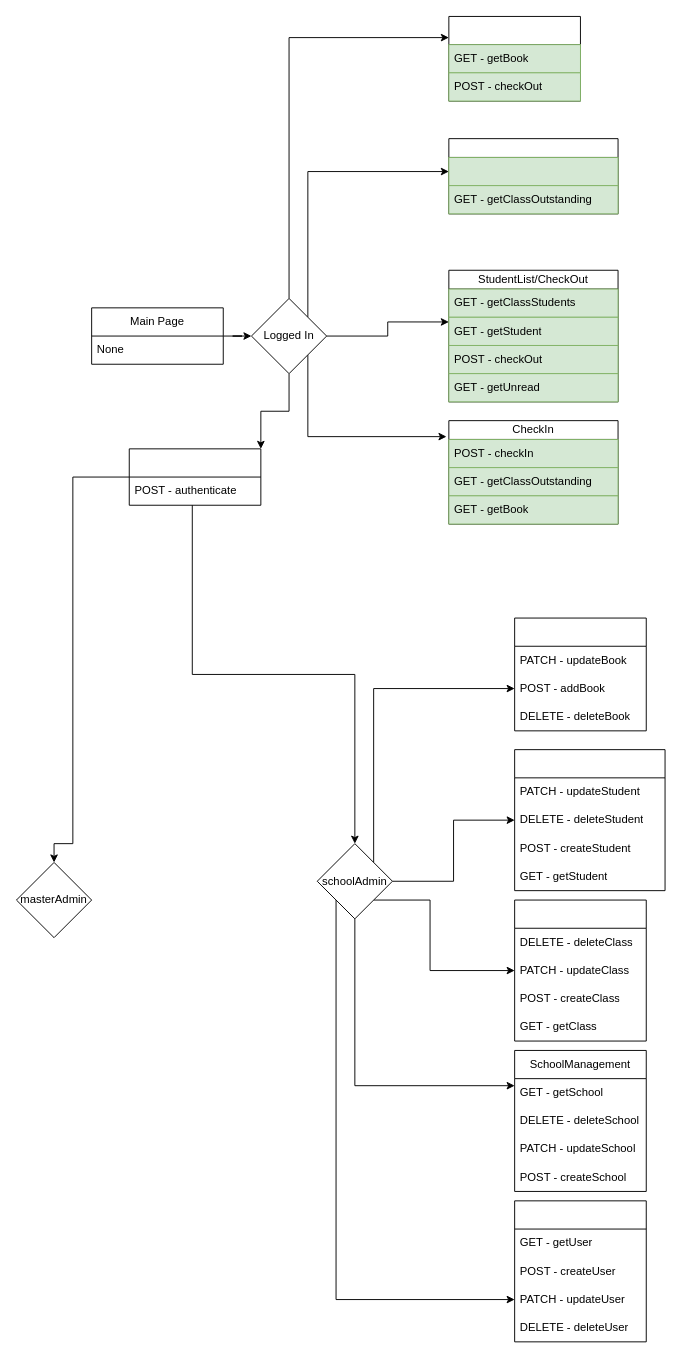
Some shapes in this 682 by 1358 pixel diagram are drawn without their labels. Here are the shapes that lost their labels. From the top down, the box of each, then its label:
(448, 16, 580, 101): scan
(448, 157, 618, 186): GET - getClassBooks
(448, 138, 618, 214): BookList
(128, 448, 261, 505): Login
(514, 617, 646, 731): BookManagement
(514, 749, 665, 891): StudentManagement
(514, 899, 646, 1041): ClassManagement
(514, 1200, 646, 1342): UserManagement
